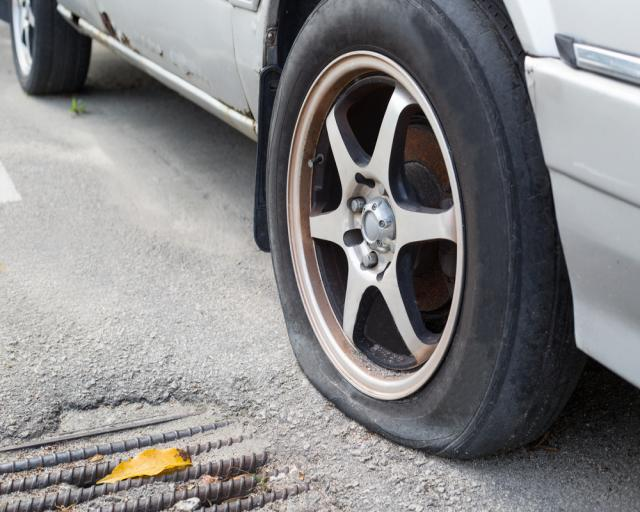tire flat: (267, 0, 582, 458)
